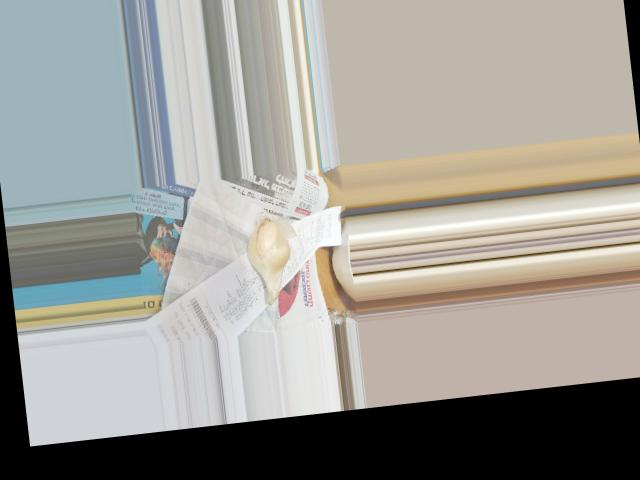onion: (240, 218, 293, 300)
